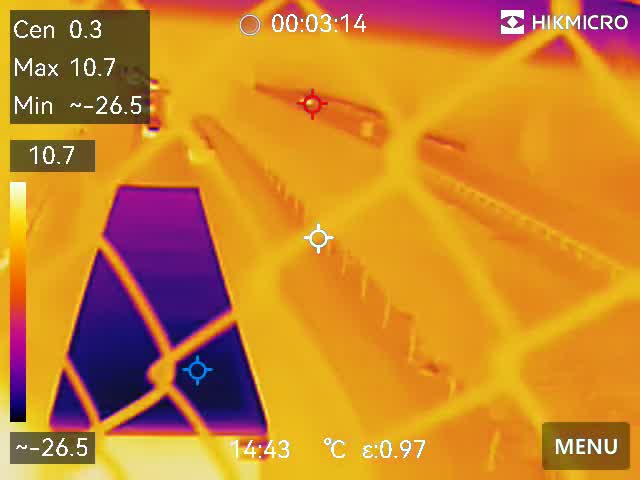heavyTruck: (50, 175, 291, 457)
vehicle: (137, 112, 163, 139)
